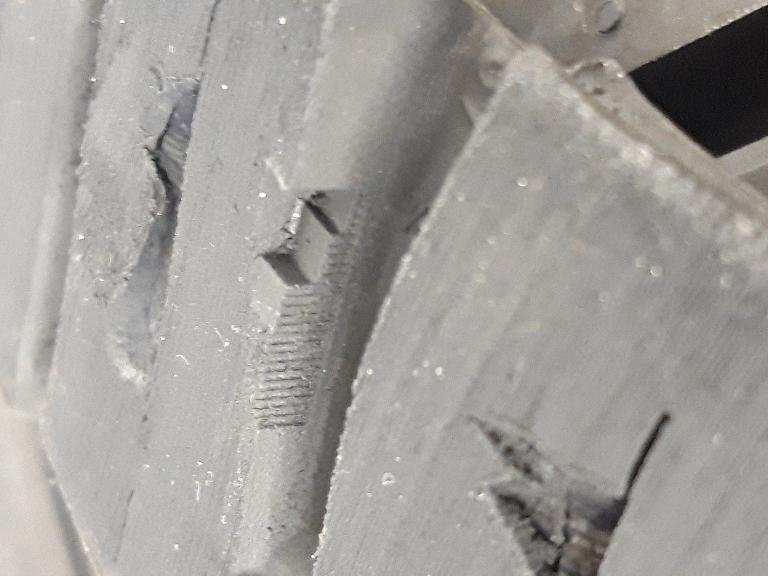temoin:50: (230, 144, 383, 344)
